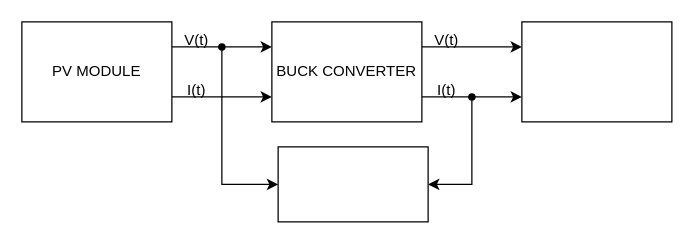
This 694x244 diagram has some shape labels left out. The centre of each missing label's shape, as x and y in pixels:
"BATTERY" goes at (x=596, y=71).
"FLC (Fuzzy Logic)" goes at (x=352, y=184).
